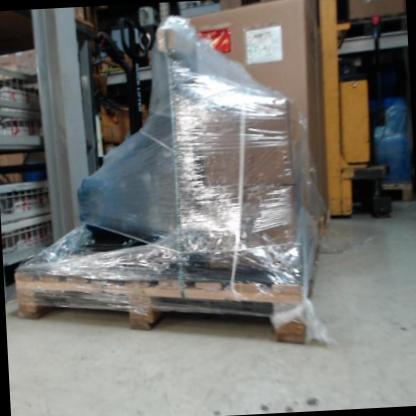pallet: (13, 256, 308, 363), (344, 14, 407, 41), (378, 182, 414, 205)
pallet_truck: (317, 0, 391, 220), (110, 10, 151, 138)
stillage: (0, 62, 50, 158), (0, 177, 50, 269)
